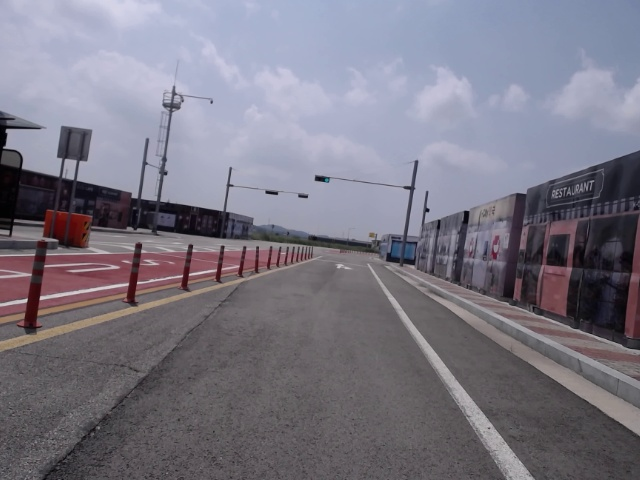green_3: (315, 175, 330, 183)
